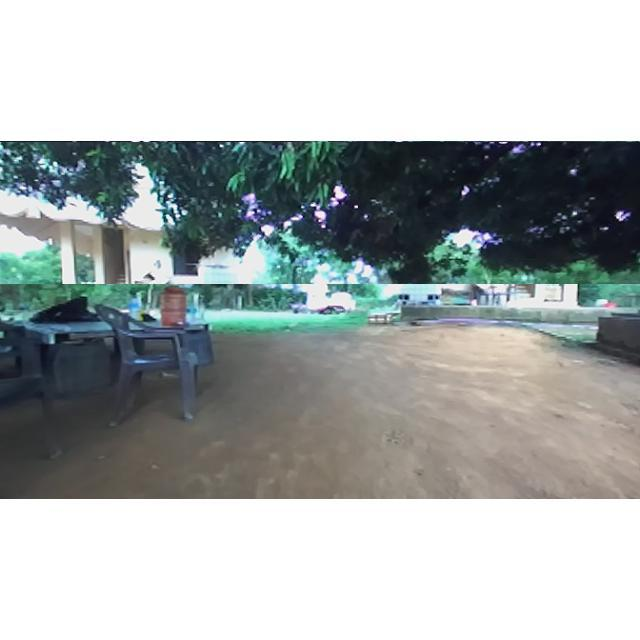direk: (0, 142, 640, 284), (122, 233, 164, 313), (222, 246, 260, 312)
